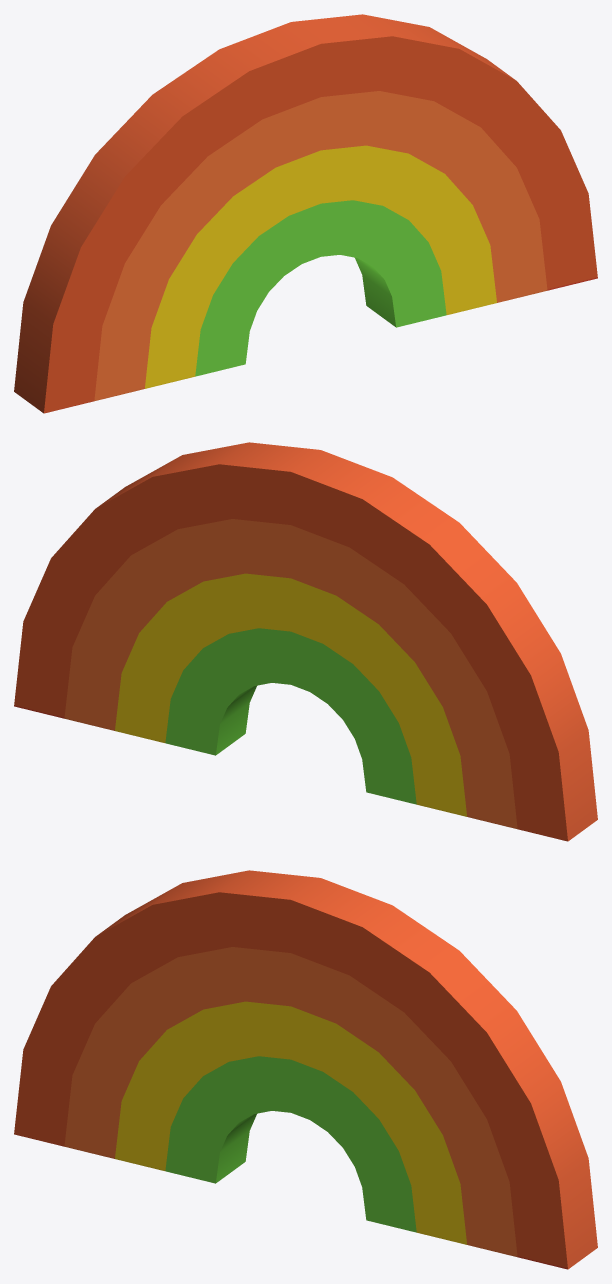
Rendered from rainbow.FBX.
The picture shows the model from 3 angles, top to bottom: view 1: azimuth 30°, elevation 25°; view 2: azimuth 150°, elevation 25°; view 3: azimuth 330°, elevation 25°; orthographic projection.
Visible parts, largest first — view 1: rainbow; view 2: rainbow; view 3: rainbow.
Part boxes in pixels (x1,y1,x2,y2): rainbow: (14,14,597,413); rainbow: (14,442,597,841); rainbow: (14,870,597,1269).
Bounding box in the file's own units: 47.56 × 24.78 × 4.45.
